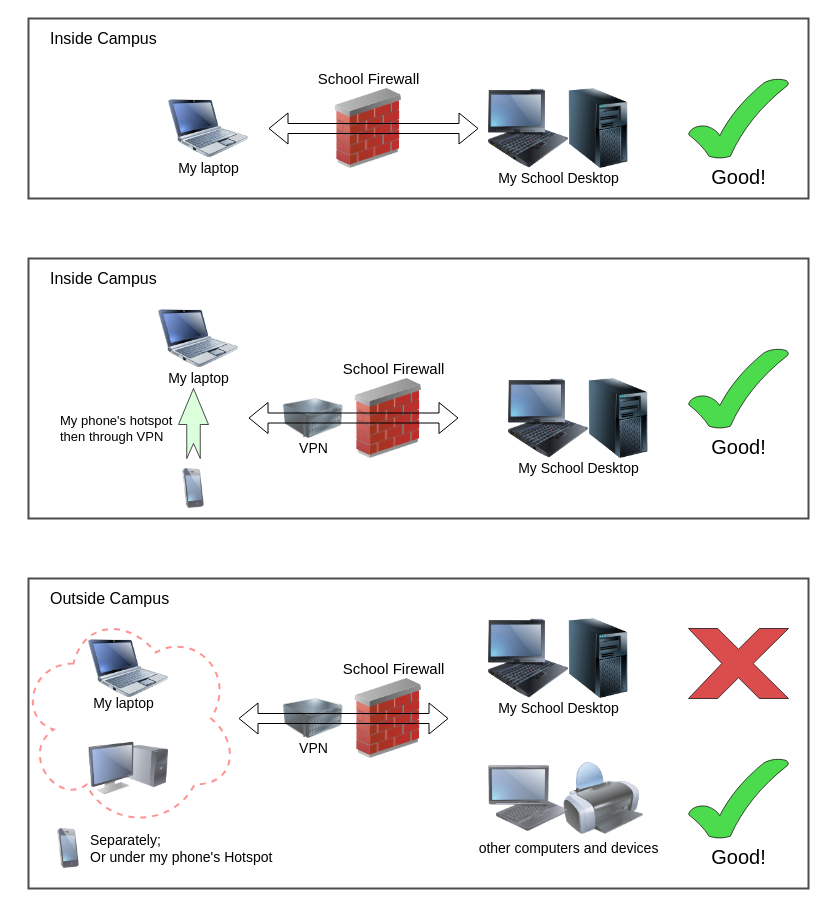
Some shapes in this 826 by 906 pixel diagram are drawn without their labels. Each missing label, with the centre of its shape:
"Bad!" goes at point 738,663.
"My home Desktop" goes at point 128,768.
